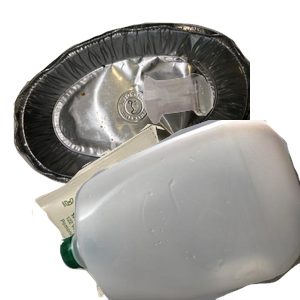glass: (141, 71, 300, 187)
metal: (11, 20, 251, 200)
plastic: (60, 120, 300, 300)
trash: (29, 124, 238, 300)
